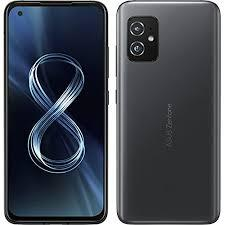Smartphone: (119, 1, 218, 223), (8, 4, 106, 225)
